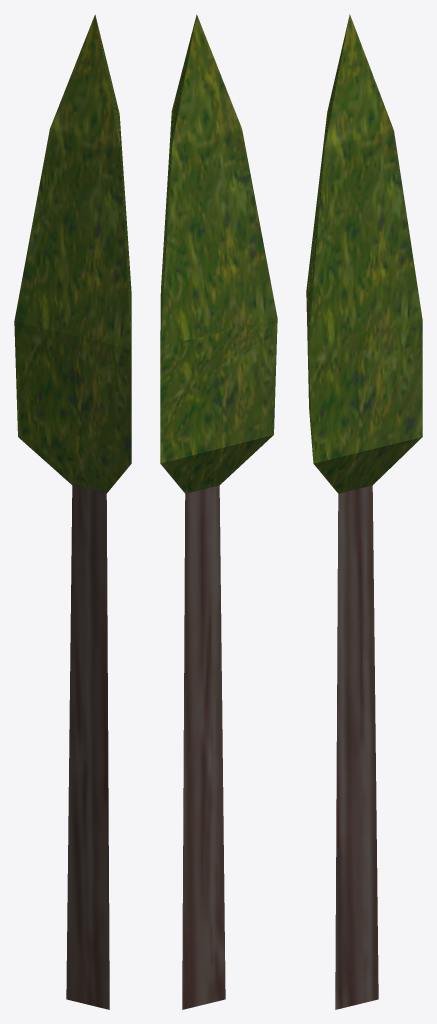
The model's file is tree1b.obj.
3 renders of one model, left to right at view 1: azimuth 30°, elevation 25°; view 2: azimuth 210°, elevation 25°; view 3: azimuth 330°, elevation 25°, orthographic.
Visible parts, largest first — view 1: tree1; view 2: tree1; view 3: tree1.
Boxes of the visible parts, left/top/right/bottom form: tree1: left=14, top=14, right=131, bottom=1009; tree1: left=160, top=14, right=277, bottom=1009; tree1: left=306, top=14, right=422, bottom=1009.
Bounding box in the file's own units: 2.55 × 20.54 × 2.17.
